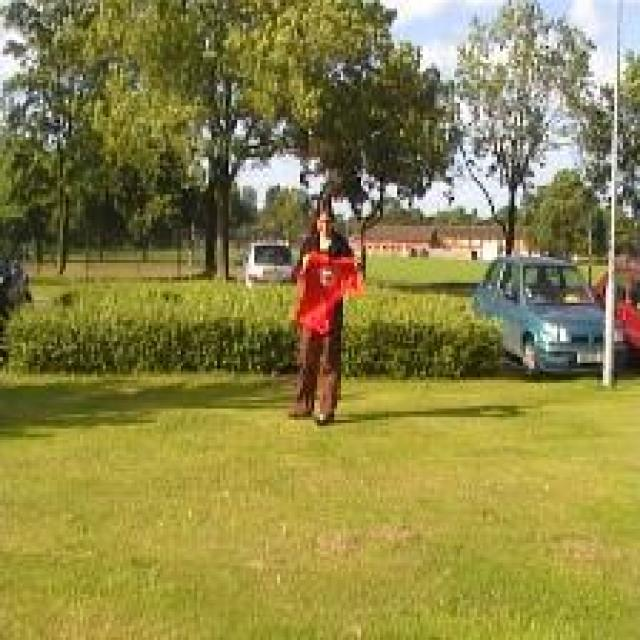other: (286, 247, 366, 331)
